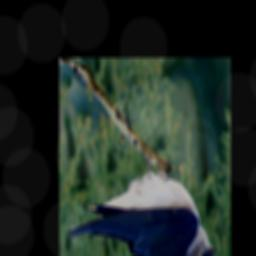Swallow: (67, 149, 220, 256)
